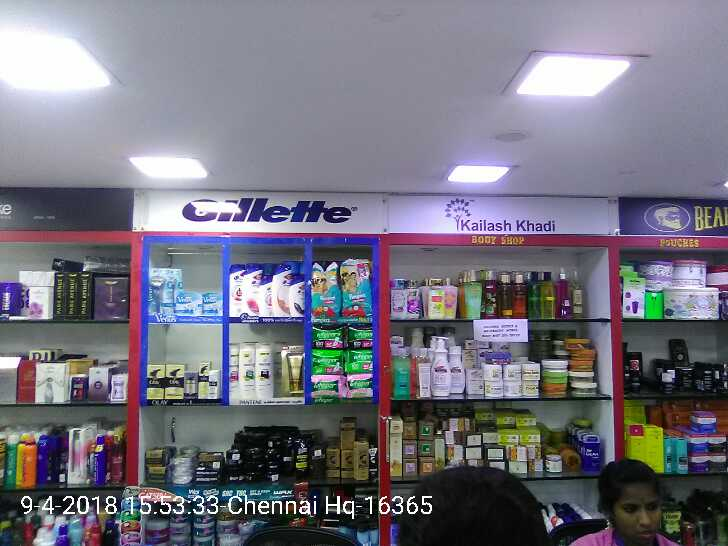venus: (149, 268, 179, 316), (180, 290, 202, 315), (205, 294, 223, 315)
